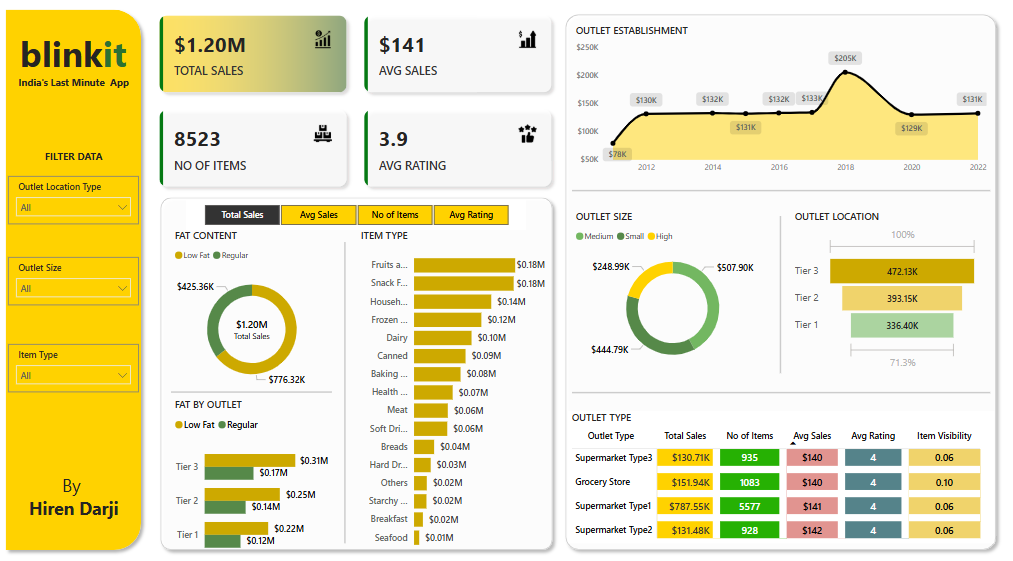

The dashboard page shown, as its layout file describes it:
{"tool":"powerbi","page":{"name":"Page 1","canvas":[1400,800],"ordinal":0},"visuals":[{"type":"shape","box":[27.1,25.6,203.2,757.2],"z":0},{"type":"textbox","box":[51.2,55.7,156.6,105.4],"z":1000},{"type":"textbox","box":[39.1,120.4,179.1,28.6],"z":2000},{"type":"cardVisual","fields":{"Data":["BlinkIT Grocery Data.Total Sales","BlinkIT Grocery Data.Avg Sales","BlinkIT Grocery Data.No of Items","BlinkIT Grocery Data.Avg Rating"]},"box":[230.3,25.6,570.5,269.5],"z":3000},{"type":"shape","box":[239.4,283,554,500],"z":4000},{"type":"donutChart","title":"FAT CONTENT","fields":{"Y":["BlinkIT Grocery Data.Total Sales"],"Category":["BlinkIT Grocery Data.Item Fat Content"]},"box":[261.9,335.7,221.3,230.3],"z":5000},{"type":"slicer","fields":{"Values":["Metrics.Metrics"]},"box":[283,295.1,465.2,40.6],"z":6000},{"type":"cardVisual","fields":{"Data":["BlinkIT Grocery Data.Total Sales"]},"box":[314.6,439.6,117.4,64.7],"z":7000},{"type":"clusteredBarChart","title":"FAT BY OUTLET","fields":{"Y":["BlinkIT Grocery Data.Total Sales"],"Category":["BlinkIT Grocery Data.Outlet Location Type"],"Series":["BlinkIT Grocery Data.Item Fat Content"]},"box":[261.9,566,219.8,230.3],"z":8000},{"type":"shape","box":[261.9,549.5,219.8,16.6],"z":9000},{"type":"shape","box":[471.2,352.3,57.2,412.5],"z":10000},{"type":"barChart","title":"ITEM TYPE","fields":{"Y":["BlinkIT Grocery Data.Total Sales"],"Category":["BlinkIT Grocery Data.Item Type"]},"box":[516.3,335.7,261.9,447.1],"z":11000},{"type":"shape","box":[793.3,33.1,606.7,749.7],"z":12000},{"type":"lineChart","title":"OUTLET ESTABLISHMENT","fields":{"Y":["BlinkIT Grocery Data.Total Sales"],"Category":["BlinkIT Grocery Data.Outlet Establishment Year"]},"box":[811.4,54.2,572,213.8],"z":13000},{"type":"shape","box":[811.4,274,572,18.1],"z":14000},{"type":"donutChart","title":"OUTLET SIZE","fields":{"Y":["BlinkIT Grocery Data.Total Sales"],"Category":["BlinkIT Grocery Data.Outlet Size"]},"box":[811.4,308.6,275.5,224.3],"z":15000},{"type":"shape","box":[1082.4,317.6,28.6,215.3],"z":16000},{"type":"funnel","title":"OUTLET LOCATION","fields":{"Y":["Sum(BlinkIT Grocery Data.Sales)"],"Category":["BlinkIT Grocery Data.Outlet Location Type"]},"box":[1111,308.6,260.4,224.3],"z":17000},{"type":"shape","box":[811.4,549.5,572,18.1],"z":18000},{"type":"pivotTable","title":"OUTLET TYPE","fields":{"Rows":["BlinkIT Grocery Data.Outlet Type"],"Values":["BlinkIT Grocery Data.Total Sales","BlinkIT Grocery Data.No of Items","BlinkIT Grocery Data.Avg Sales","BlinkIT Grocery Data.Avg Rating","Avg(BlinkIT Grocery Data.Item Visibility)"]},"box":[805.4,584.1,582.6,180.6],"z":19000},{"type":"slicer","fields":{"Values":["BlinkIT Grocery Data.Outlet Location Type"]},"box":[39.1,261.9,179.1,66.2],"z":20000},{"type":"slicer","fields":{"Values":["BlinkIT Grocery Data.Outlet Size"]},"box":[39.1,373.3,179.1,66.2],"z":21000},{"type":"slicer","fields":{"Values":["BlinkIT Grocery Data.Item Type"]},"box":[39.1,492.3,179.1,66.2],"z":22000},{"type":"textbox","box":[37.6,663.9,182.2,100.9],"z":23000},{"type":"textbox","box":[39.1,221.3,179.1,28.6],"z":24000}]}

Visuals, with their boxes on the page's 1400x800 design canvas (x1, y1, x2, y2). These are canvas units, not pixel positions in the 1013x561 screenshot, which may show the page scaled, cropped or inside an application window:
shape: [left=27, top=26, right=230, bottom=783]
textbox: [left=51, top=56, right=208, bottom=161]
textbox: [left=39, top=120, right=218, bottom=149]
cardVisual - BlinkIT Grocery Data.Total Sales x BlinkIT Grocery Data.Avg Sales: [left=230, top=26, right=801, bottom=295]
shape: [left=239, top=283, right=793, bottom=783]
"FAT CONTENT" donutChart: [left=262, top=336, right=483, bottom=566]
slicer - Metrics.Metrics: [left=283, top=295, right=748, bottom=336]
cardVisual - BlinkIT Grocery Data.Total Sales: [left=315, top=440, right=432, bottom=504]
"FAT BY OUTLET" clusteredBarChart: [left=262, top=566, right=482, bottom=796]
shape: [left=262, top=550, right=482, bottom=566]
shape: [left=471, top=352, right=528, bottom=765]
"ITEM TYPE" barChart: [left=516, top=336, right=778, bottom=783]
shape: [left=793, top=33, right=1400, bottom=783]
"OUTLET ESTABLISHMENT" lineChart: [left=811, top=54, right=1383, bottom=268]
shape: [left=811, top=274, right=1383, bottom=292]
"OUTLET SIZE" donutChart: [left=811, top=309, right=1087, bottom=533]
shape: [left=1082, top=318, right=1111, bottom=533]
"OUTLET LOCATION" funnel: [left=1111, top=309, right=1371, bottom=533]
shape: [left=811, top=550, right=1383, bottom=568]
"OUTLET TYPE" pivotTable: [left=805, top=584, right=1388, bottom=765]
slicer - BlinkIT Grocery Data.Outlet Location Type: [left=39, top=262, right=218, bottom=328]
slicer - BlinkIT Grocery Data.Outlet Size: [left=39, top=373, right=218, bottom=440]
slicer - BlinkIT Grocery Data.Item Type: [left=39, top=492, right=218, bottom=558]
textbox: [left=38, top=664, right=220, bottom=765]
textbox: [left=39, top=221, right=218, bottom=250]
